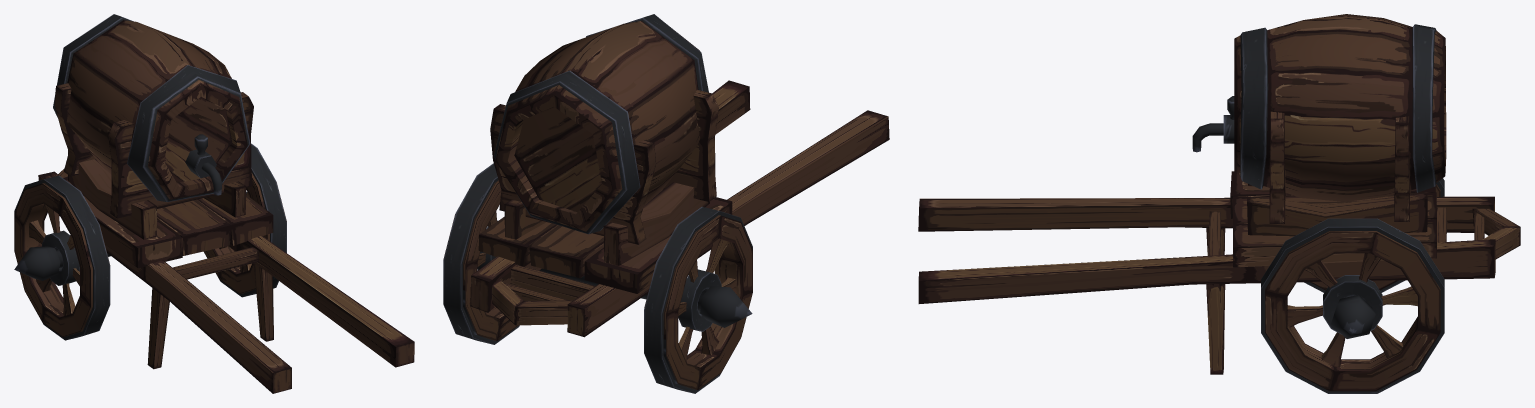
File: SM_PROP_cart_barrel_dungeon.fbx
3 views of the same model, side by side, from view 1: azimuth 30°, elevation 25°; view 2: azimuth 150°, elevation 25°; view 3: azimuth 270°, elevation 25° (orthographic). The views are drawn at different scales.
Parts seen in each view (by area): view 1: SM_PROP_cart_barrel_dungeon, SM_PROP_cart_barrel_wheel_R, SM_PROP_cart_barrel_wheel_L; view 2: SM_PROP_cart_barrel_dungeon, SM_PROP_cart_barrel_wheel_R, SM_PROP_cart_barrel_wheel_L; view 3: SM_PROP_cart_barrel_dungeon, SM_PROP_cart_barrel_wheel_L, SM_PROP_cart_barrel_wheel_R.
Part boxes in pixels (x1=…): SM_PROP_cart_barrel_dungeon: x1=14, y1=14, x2=414, y2=393; SM_PROP_cart_barrel_wheel_R: x1=14, y1=175, x2=110, y2=340; SM_PROP_cart_barrel_wheel_L: x1=203, y1=143, x2=286, y2=297; SM_PROP_cart_barrel_dungeon: x1=470, y1=14, x2=889, y2=337; SM_PROP_cart_barrel_wheel_R: x1=644, y1=206, x2=752, y2=393; SM_PROP_cart_barrel_wheel_L: x1=443, y1=163, x2=519, y2=344; SM_PROP_cart_barrel_dungeon: x1=918, y1=14, x2=1520, y2=374; SM_PROP_cart_barrel_wheel_L: x1=1261, y1=218, x2=1444, y2=393; SM_PROP_cart_barrel_wheel_R: x1=1304, y1=178, x2=1444, y2=292.
Size of the model in its own units: 141 by 142 by 241.
